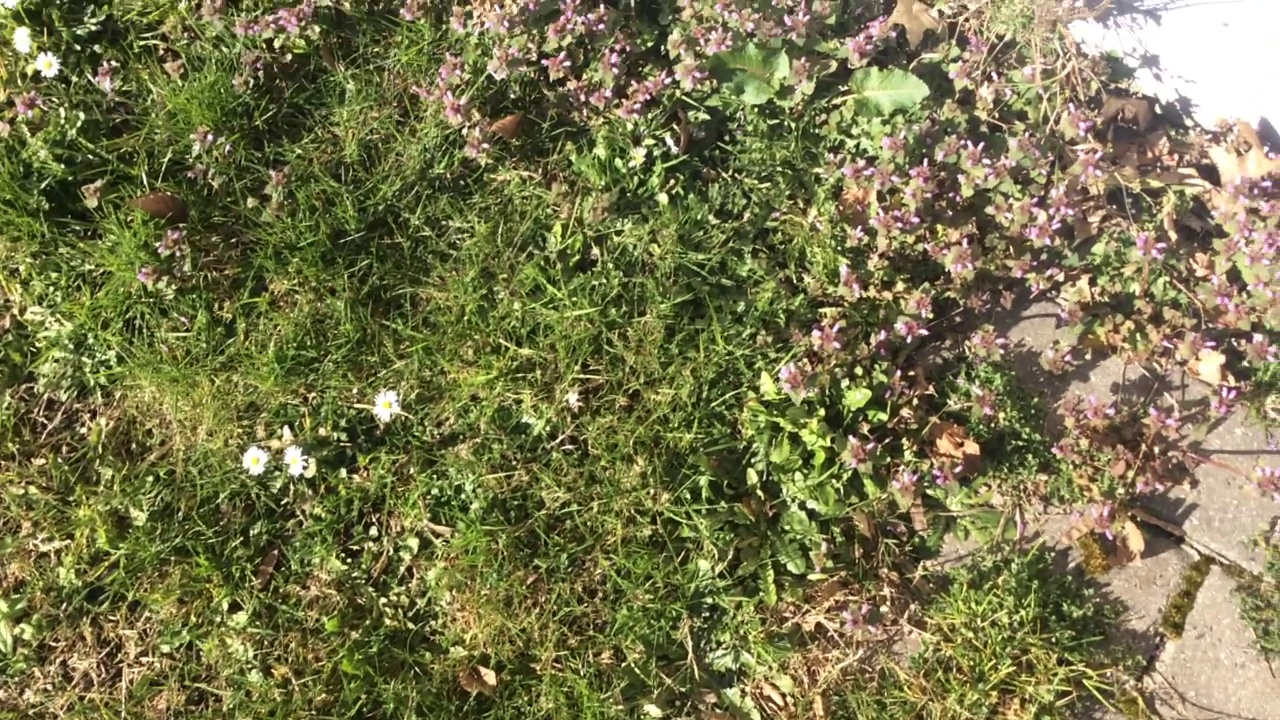rumex: (702, 39, 933, 122)
